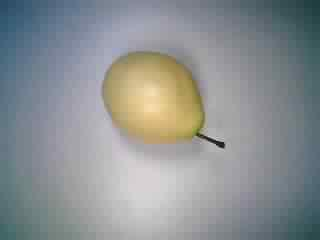pear: (83, 46, 235, 158)
